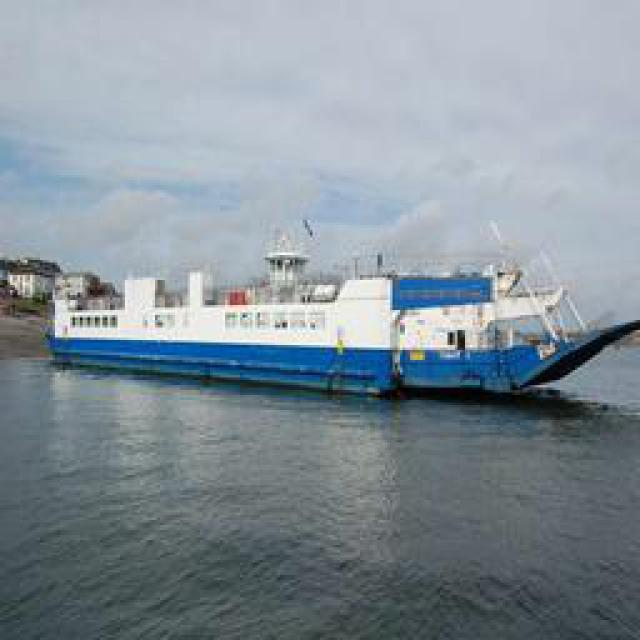Ship: (46, 246, 634, 399)
